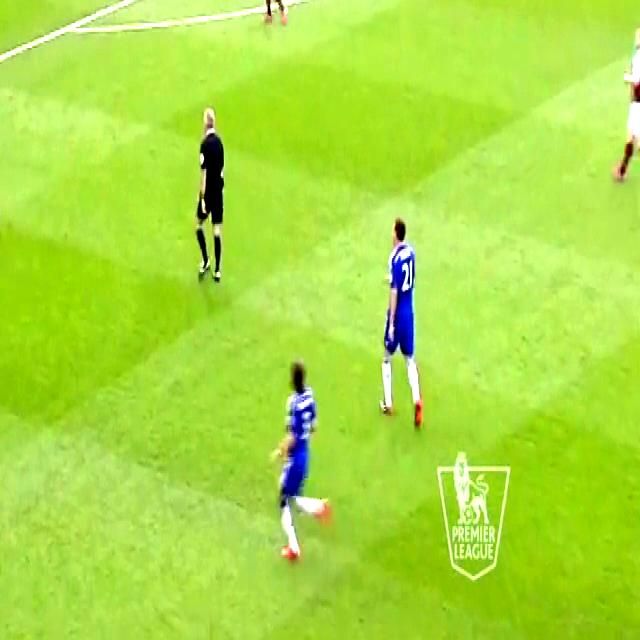referee: (189, 93, 232, 294)
soccer-player: (263, 344, 333, 572), (376, 202, 428, 435), (608, 14, 638, 194), (251, 0, 291, 39), (0, 75, 3, 242)
